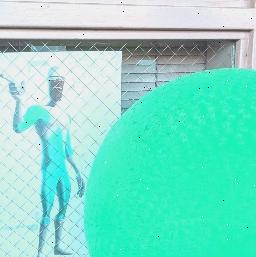algae: (85, 68, 256, 257)
